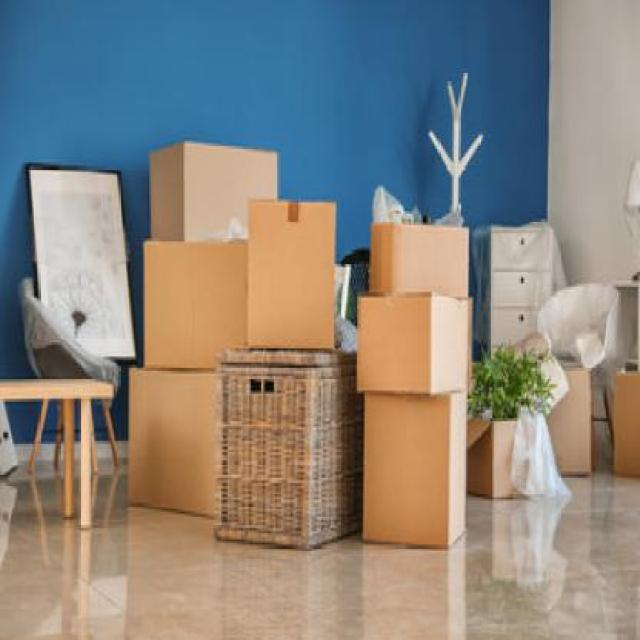box: (353, 393, 478, 586), (235, 169, 347, 362), (122, 353, 232, 548), (136, 232, 258, 382), (145, 133, 297, 246), (350, 288, 476, 414), (361, 204, 484, 316)
